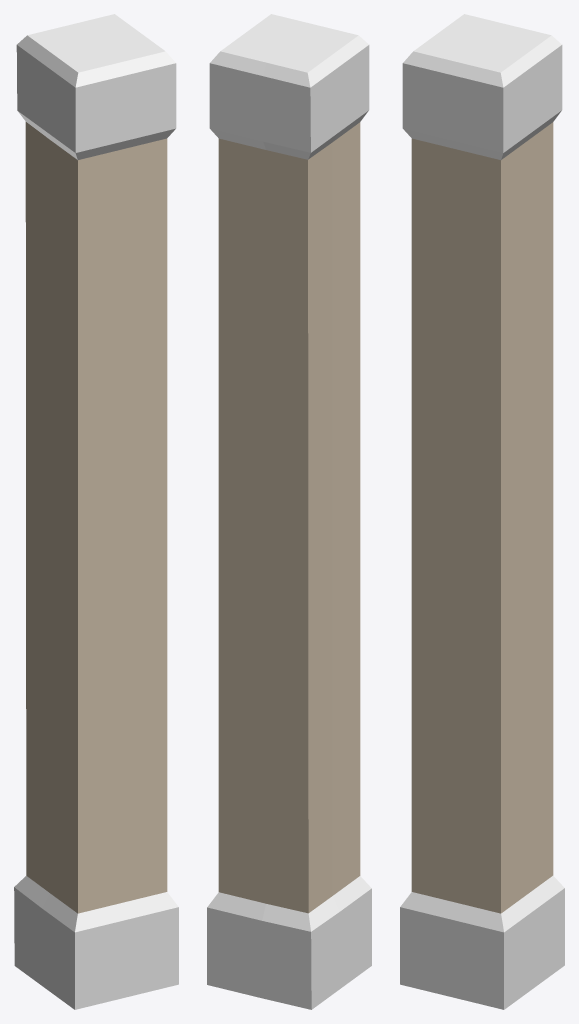
File: g_o_KitchenWallCorner360.fbx
The picture shows the model from 3 angles, left to right: view 1: azimuth 30°, elevation 25°; view 2: azimuth 150°, elevation 25°; view 3: azimuth 330°, elevation 25°; orthographic projection.
Parts seen in each view (by area): view 1: g_o_KitchenWallCorner360; view 2: g_o_KitchenWallCorner360; view 3: g_o_KitchenWallCorner360.
Part boxes in pixels (x1,y1,x2,y2): g_o_KitchenWallCorner360: (14,14,178,1009); g_o_KitchenWallCorner360: (207,14,371,1009); g_o_KitchenWallCorner360: (400,14,564,1009).
Bounding box in the file's own units: 0.2198 × 1.88 × 0.2223.
